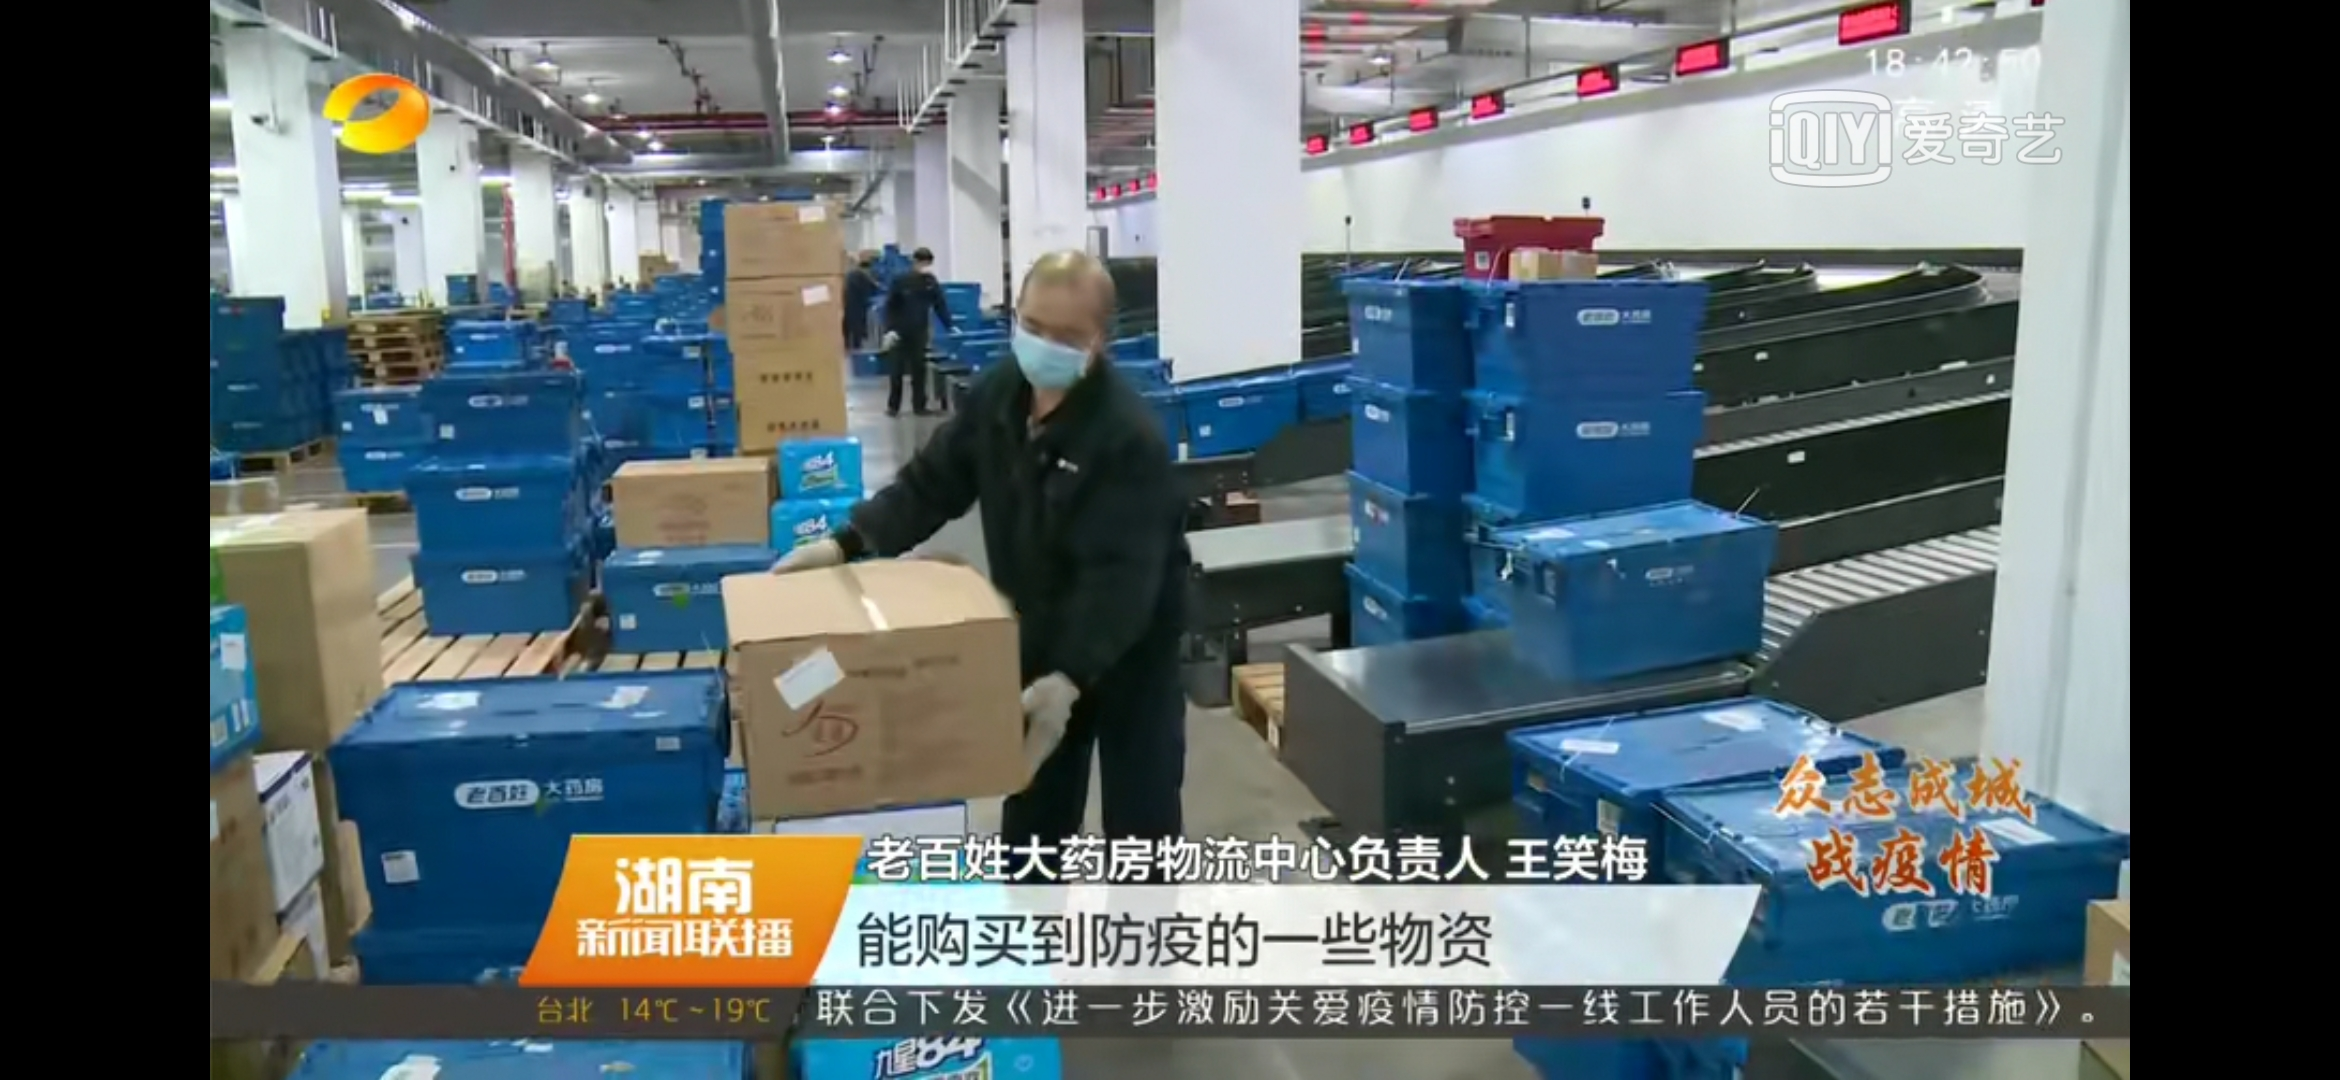correctlyWear: (1006, 286, 1095, 395), (915, 252, 933, 273)
